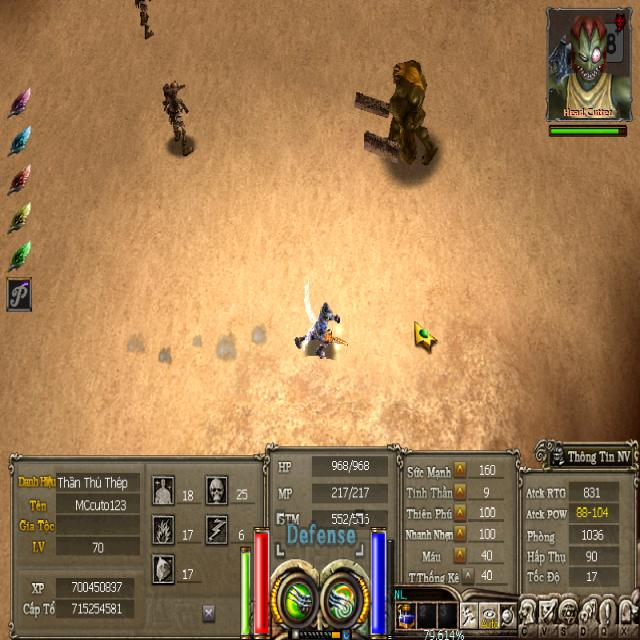monster: (362, 54, 439, 176), (164, 73, 196, 162), (133, 0, 160, 45)
